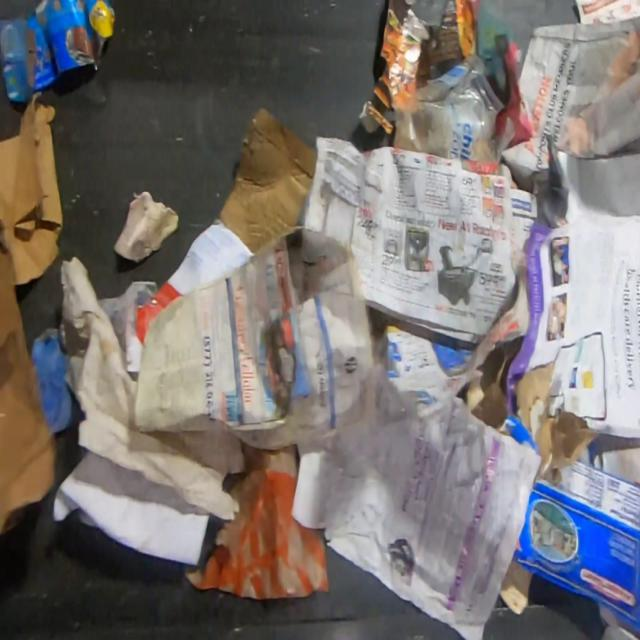cardboard: (510, 438, 640, 636), (0, 254, 57, 539), (217, 108, 321, 254), (0, 1, 119, 104), (0, 98, 65, 286), (495, 412, 541, 452)
rigid_plastic: (394, 50, 519, 166)
